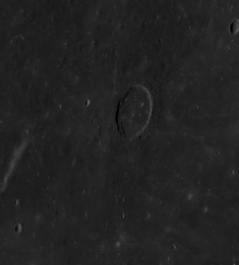crater: (107, 49, 192, 186)
